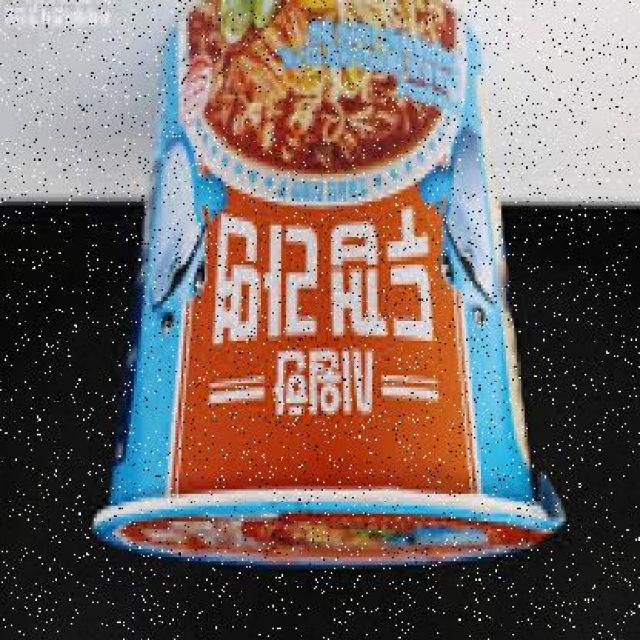Miscellaneous: (102, 0, 564, 569)
